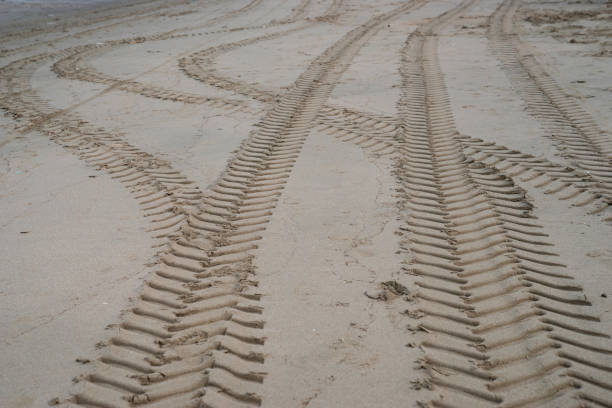vehicle_track: (72, 1, 422, 407), (396, 0, 611, 407), (0, 49, 201, 237), (487, 0, 611, 201), (52, 37, 247, 109), (456, 133, 609, 212), (179, 26, 302, 103), (0, 11, 166, 56)
